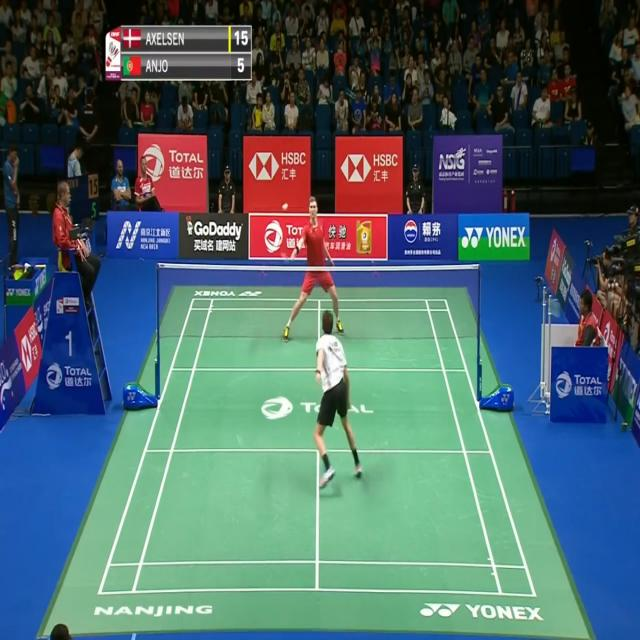Player1: (309, 306, 366, 501)
Player2: (279, 177, 349, 347)
